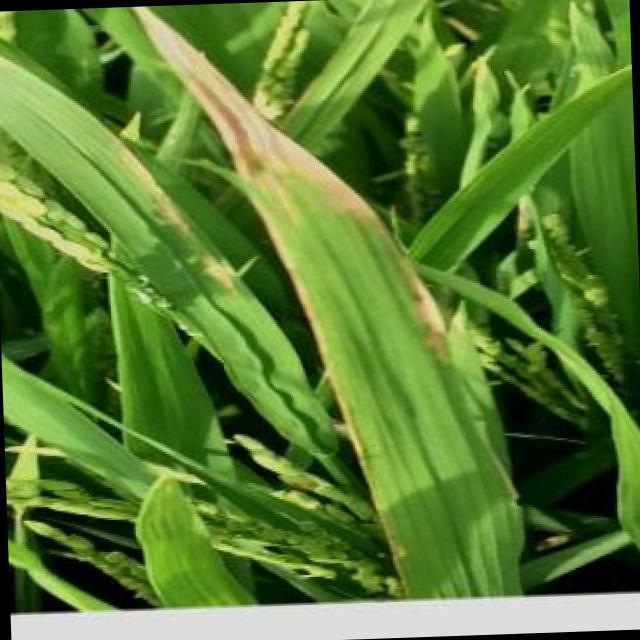Rice_Bacterial_Blight: (229, 38, 461, 517)
